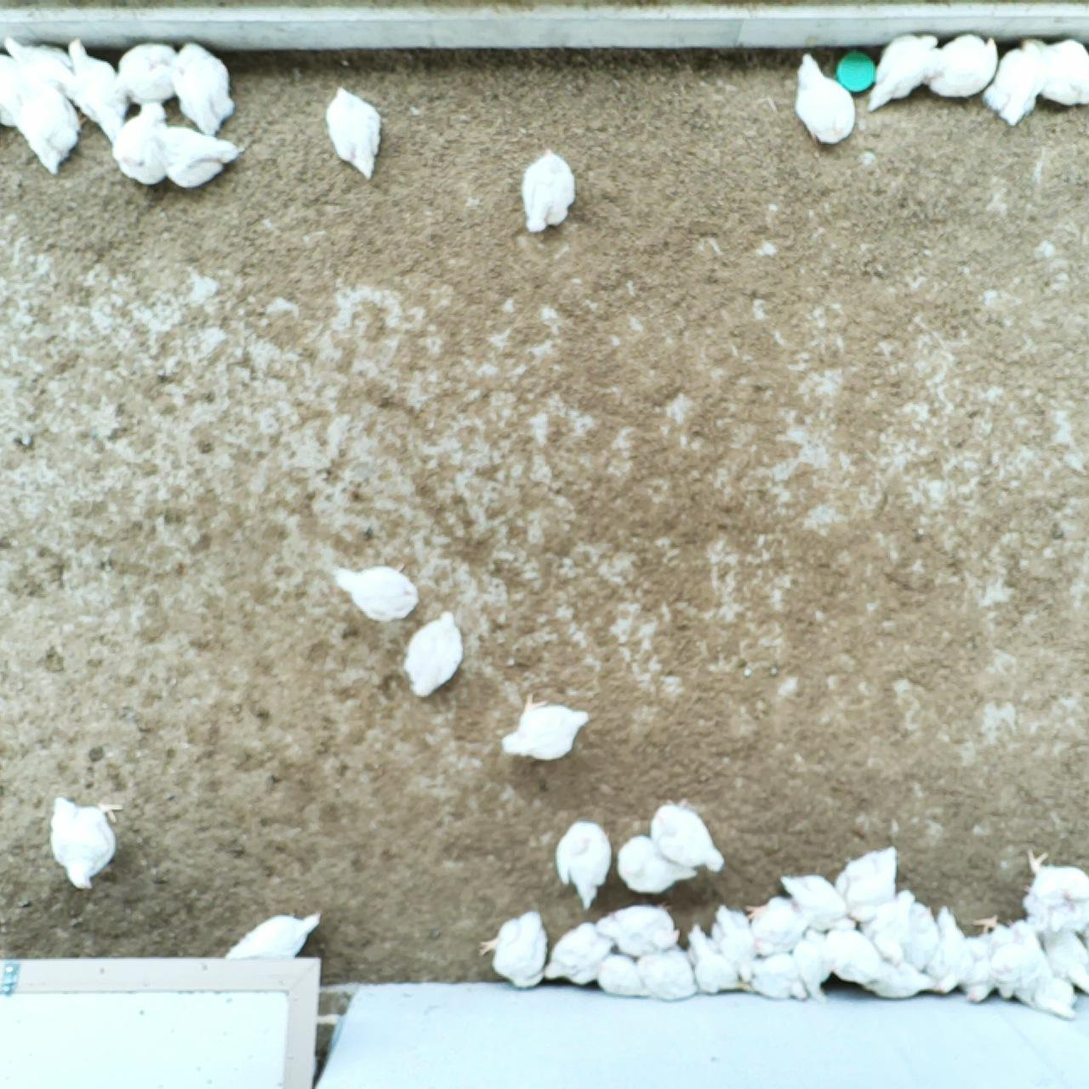chicken: (42, 792, 127, 893), (2, 76, 84, 180), (59, 34, 128, 148), (499, 690, 596, 763), (789, 52, 859, 148), (327, 556, 421, 626), (170, 39, 238, 135), (401, 610, 473, 700), (321, 82, 385, 182), (865, 30, 940, 114), (650, 795, 728, 874), (223, 906, 324, 966), (553, 818, 613, 913), (479, 909, 549, 990), (979, 37, 1041, 128), (615, 830, 699, 896), (516, 147, 580, 233), (919, 33, 1001, 99), (1021, 847, 1089, 926), (108, 102, 171, 187), (594, 900, 682, 960), (159, 125, 245, 186), (837, 839, 897, 925), (990, 917, 1049, 999), (543, 919, 615, 984), (821, 927, 897, 988), (773, 869, 846, 930), (858, 887, 915, 965), (747, 895, 815, 959), (114, 40, 182, 104), (687, 923, 745, 992), (923, 904, 966, 997), (954, 921, 1002, 1004), (1032, 37, 1089, 106), (637, 944, 700, 1005), (714, 900, 757, 985), (793, 929, 837, 1004), (1021, 970, 1080, 1024), (745, 956, 811, 1003), (1, 30, 73, 73), (1046, 922, 1089, 992), (868, 963, 940, 997), (902, 902, 938, 969), (593, 951, 639, 996)
